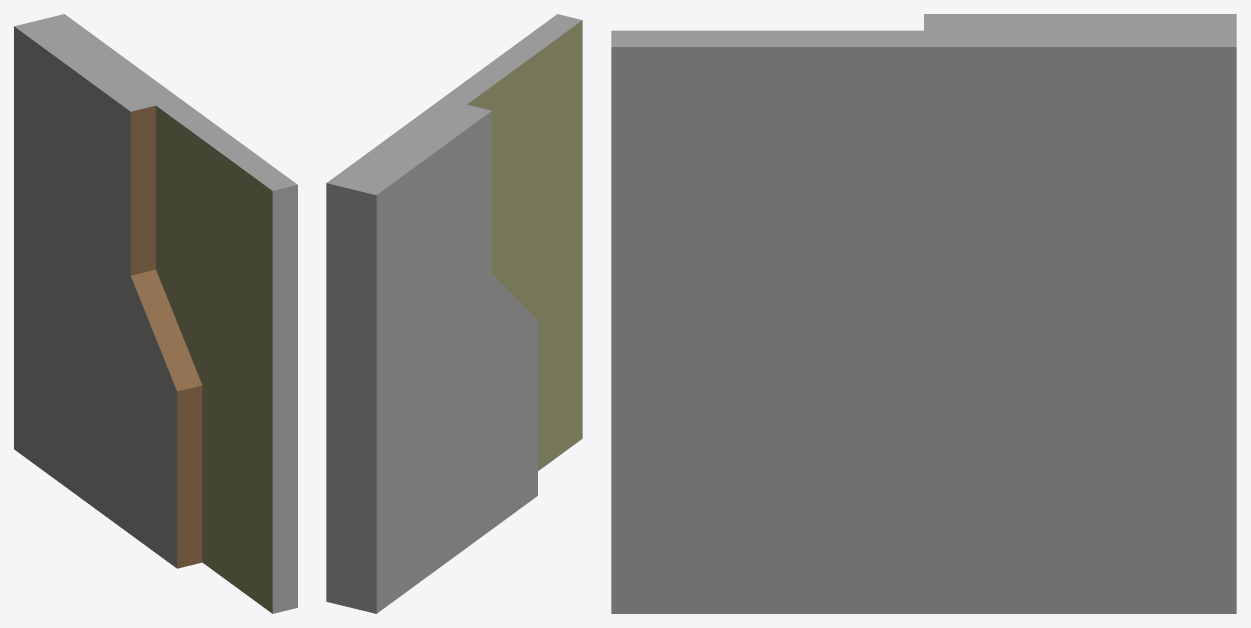
The model's file is CM_S_Wall8x8.fbx.
3 views of the same model, side by side, from view 1: azimuth 30°, elevation 25°; view 2: azimuth 150°, elevation 25°; view 3: azimuth 270°, elevation 25° (orthographic). The views are drawn at different scales.
Parts seen in each view (by area): view 1: CM_S_Wall8x8; view 2: CM_S_Wall8x8; view 3: CM_S_Wall8x8.
Boxes of the visible parts, x1,y1,x2,y2 form: CM_S_Wall8x8: (14,14,297,613); CM_S_Wall8x8: (326,14,582,613); CM_S_Wall8x8: (611,14,1236,613).
Bounding box in the file's own units: 100 × 800 × 800.
